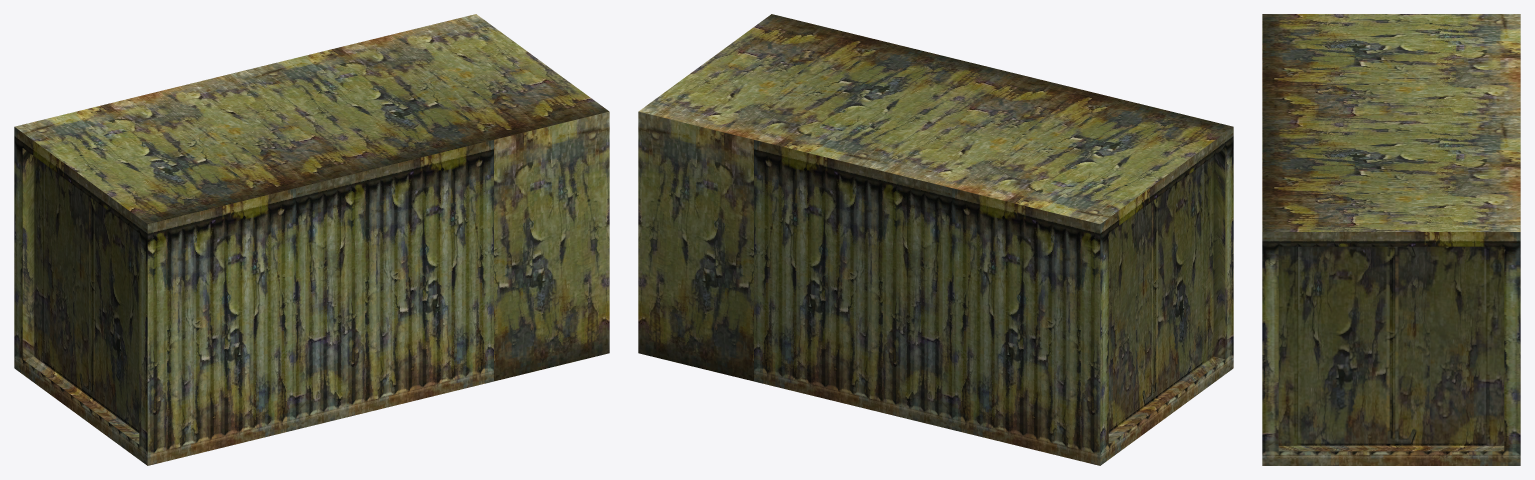
The model's file is M11_Crate_Big_Yellow01.glb.
The picture shows the model from 3 angles, left to right: view 1: azimuth 30°, elevation 25°; view 2: azimuth 150°, elevation 25°; view 3: azimuth 270°, elevation 25°; orthographic projection. The views are drawn at different scales.
Parts seen in each view (by area): view 1: M11_CRATE_BIG_YELLOW01; view 2: M11_CRATE_BIG_YELLOW01; view 3: M11_CRATE_BIG_YELLOW01.
Boxes of the visible parts, x1,y1,x2,y2 form: M11_CRATE_BIG_YELLOW01: (14,14,609,465); M11_CRATE_BIG_YELLOW01: (638,14,1233,465); M11_CRATE_BIG_YELLOW01: (1262,14,1520,465).
Size of the model in its own units: 8 by 4 by 4.
Materials: 3 (3 with a texture image).
